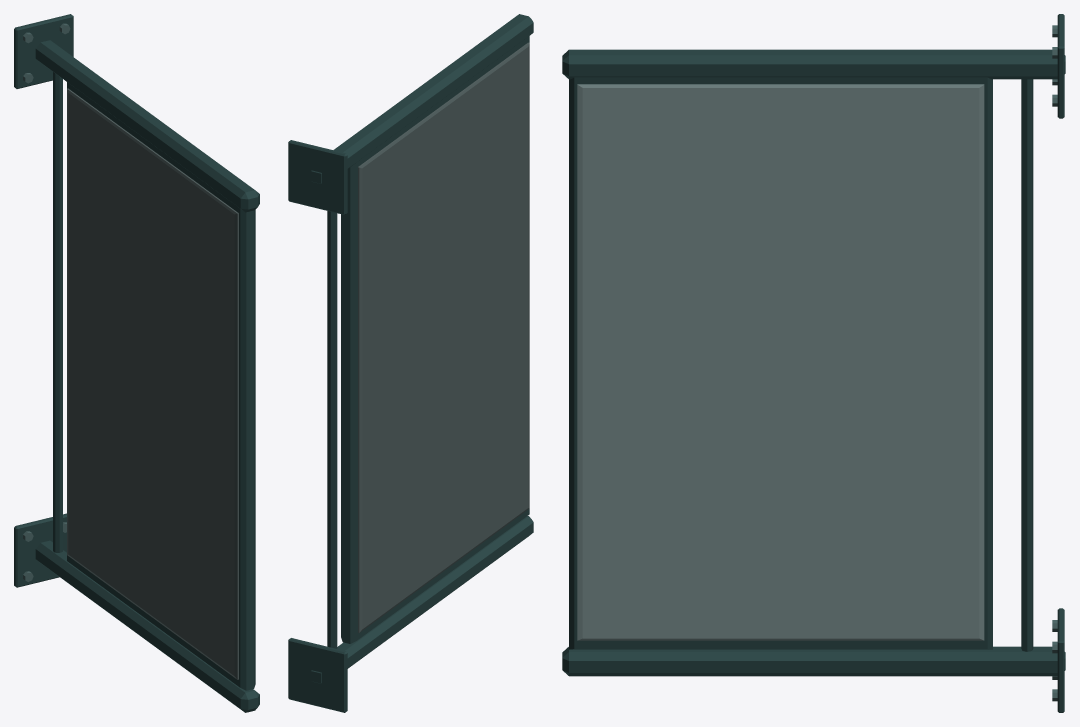
Rendered from signboard medium size.fbx.
3 renders of one model, left to right at view 1: azimuth 30°, elevation 25°; view 2: azimuth 150°, elevation 25°; view 3: azimuth 270°, elevation 25°, orthographic. The views are drawn at different scales.
Visible parts, largest first — view 1: polySurface17; view 2: polySurface17; view 3: polySurface17.
Boxes of the visible parts, x1,y1,x2,y2 form: polySurface17: (14,14,259,712); polySurface17: (288,14,533,712); polySurface17: (562,14,1065,712).
Bounding box in the file's own units: 0.1493 × 1.38 × 0.9416.
